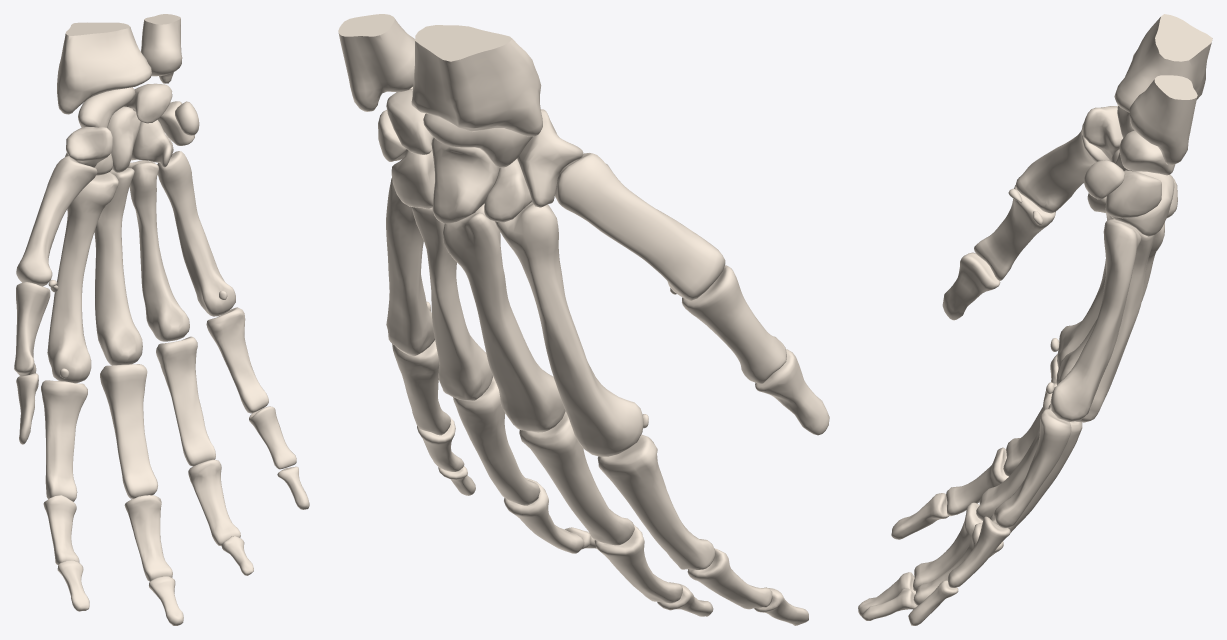
Rendered from open3d-hand-skeletal-01.glb.
The picture shows the model from 3 angles, left to right: view 1: azimuth 30°, elevation 25°; view 2: azimuth 150°, elevation 25°; view 3: azimuth 270°, elevation 25°; orthographic projection. The views are drawn at different scales.
Parts seen in each view (by area): view 1: O3D_1abdab0f2158f5, O3D_bec3238efbf728, O3D_814d02707f05b3, O3D_03b9ca311a82b5, O3D_5a5f9baeb28a25, O3D_97ef64a4e35643, O3D_33abacb638e22d, O3D_10cd504bfe3654, O3D_591872a4b8bb9d, O3D_8e842a1fd2f62e, O3D_9725a42d9a2ede, O3D_82b1eb36a4b439 (+16 smaller); view 2: O3D_bec3238efbf728, O3D_1abdab0f2158f5, O3D_814d02707f05b3, O3D_33abacb638e22d, O3D_03b9ca311a82b5, O3D_591872a4b8bb9d, O3D_5a5f9baeb28a25, O3D_82b1eb36a4b439, O3D_97ef64a4e35643, O3D_5f6d200bc724e4, O3D_10cd504bfe3654, O3D_ad4478ebc0df8f (+14 smaller); view 3: O3D_5a5f9baeb28a25, O3D_bec3238efbf728, O3D_82b1eb36a4b439, O3D_33abacb638e22d, O3D_8e842a1fd2f62e, O3D_5f6d200bc724e4, O3D_03b9ca311a82b5, O3D_396a5ddbbcdd2c, O3D_074d5803746bcc, O3D_9725a42d9a2ede, O3D_3a9a3f2a7e401e, O3D_5cda04be345116 (+14 smaller).
Part boxes in pixels (x1=…): O3D_1abdab0f2158f5: x1=47, y1=172, x2=118, y2=383; O3D_bec3238efbf728: x1=57, y1=22, x2=151, y2=114; O3D_814d02707f05b3: x1=94, y1=167, x2=142, y2=365; O3D_03b9ca311a82b5: x1=128, y1=160, x2=189, y2=341; O3D_5a5f9baeb28a25: x1=157, y1=151, x2=235, y2=316; O3D_97ef64a4e35643: x1=100, y1=364, x2=157, y2=498; O3D_33abacb638e22d: x1=16, y1=156, x2=97, y2=286; O3D_10cd504bfe3654: x1=156, y1=336, x2=215, y2=466; O3D_591872a4b8bb9d: x1=41, y1=380, x2=87, y2=501; O3D_8e842a1fd2f62e: x1=206, y1=307, x2=268, y2=413; O3D_9725a42d9a2ede: x1=124, y1=495, x2=172, y2=581; O3D_82b1eb36a4b439: x1=141, y1=14, x2=182, y2=83; O3D_bec3238efbf728: x1=411, y1=25, x2=542, y2=136; O3D_1abdab0f2158f5: x1=495, y1=202, x2=643, y2=456; O3D_814d02707f05b3: x1=442, y1=204, x2=565, y2=432; O3D_33abacb638e22d: x1=555, y1=153, x2=725, y2=300; O3D_03b9ca311a82b5: x1=411, y1=207, x2=492, y2=400; O3D_591872a4b8bb9d: x1=597, y1=434, x2=714, y2=569; O3D_5a5f9baeb28a25: x1=386, y1=178, x2=434, y2=356; O3D_82b1eb36a4b439: x1=338, y1=14, x2=414, y2=111; O3D_97ef64a4e35643: x1=519, y1=411, x2=634, y2=545; O3D_5f6d200bc724e4: x1=682, y1=265, x2=786, y2=383; O3D_10cd504bfe3654: x1=453, y1=376, x2=540, y2=505; O3D_ad4478ebc0df8f: x1=432, y1=138, x2=499, y2=223; O3D_5a5f9baeb28a25: x1=1050, y1=219, x2=1141, y2=421; O3D_bec3238efbf728: x1=1114, y1=14, x2=1212, y2=112; O3D_82b1eb36a4b439: x1=1129, y1=75, x2=1197, y2=164; O3D_33abacb638e22d: x1=1016, y1=123, x2=1110, y2=213; O3D_8e842a1fd2f62e: x1=994, y1=409, x2=1071, y2=527; O3D_5f6d200bc724e4: x1=974, y1=185, x2=1055, y2=280; O3D_03b9ca311a82b5: x1=1075, y1=224, x2=1155, y2=422; O3D_396a5ddbbcdd2c: x1=942, y1=252, x2=1000, y2=320; O3D_074d5803746bcc: x1=1105, y1=170, x2=1161, y2=218; O3D_9725a42d9a2ede: x1=913, y1=502, x2=982, y2=591; O3D_3a9a3f2a7e401e: x1=1087, y1=171, x2=1174, y2=236; O3D_5cda04be345116: x1=946, y1=447, x2=1008, y2=516.
Bounding box in the file's own units: 0.108 × 0.1846 × 0.0971.
